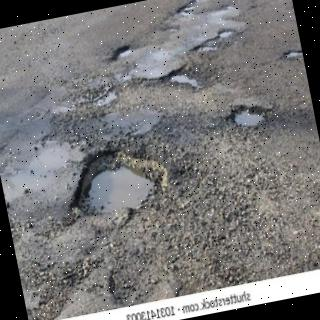pothole: (73, 152, 168, 215)
